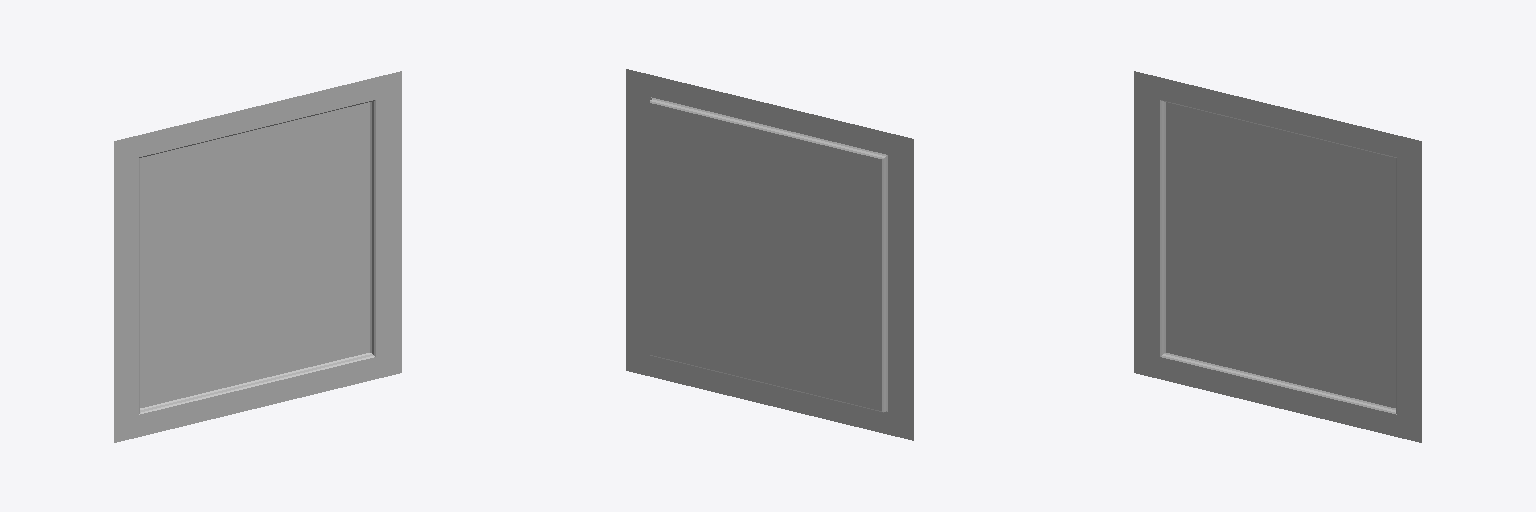
Rendered from Wall_03_OBJ.obj.
3 renders of one model, left to right at view 1: azimuth 30°, elevation 25°; view 2: azimuth 150°, elevation 25°; view 3: azimuth 330°, elevation 25°, orthographic.
Visible parts, largest first — view 1: polySurface104; view 2: polySurface104; view 3: polySurface104.
Part boxes in pixels (bbox=[...]): polySurface104: bbox=[114, 71, 401, 442]; polySurface104: bbox=[626, 69, 913, 440]; polySurface104: bbox=[1134, 71, 1421, 442].
Size of the model in its own units: 450 by 451 by 8.94.